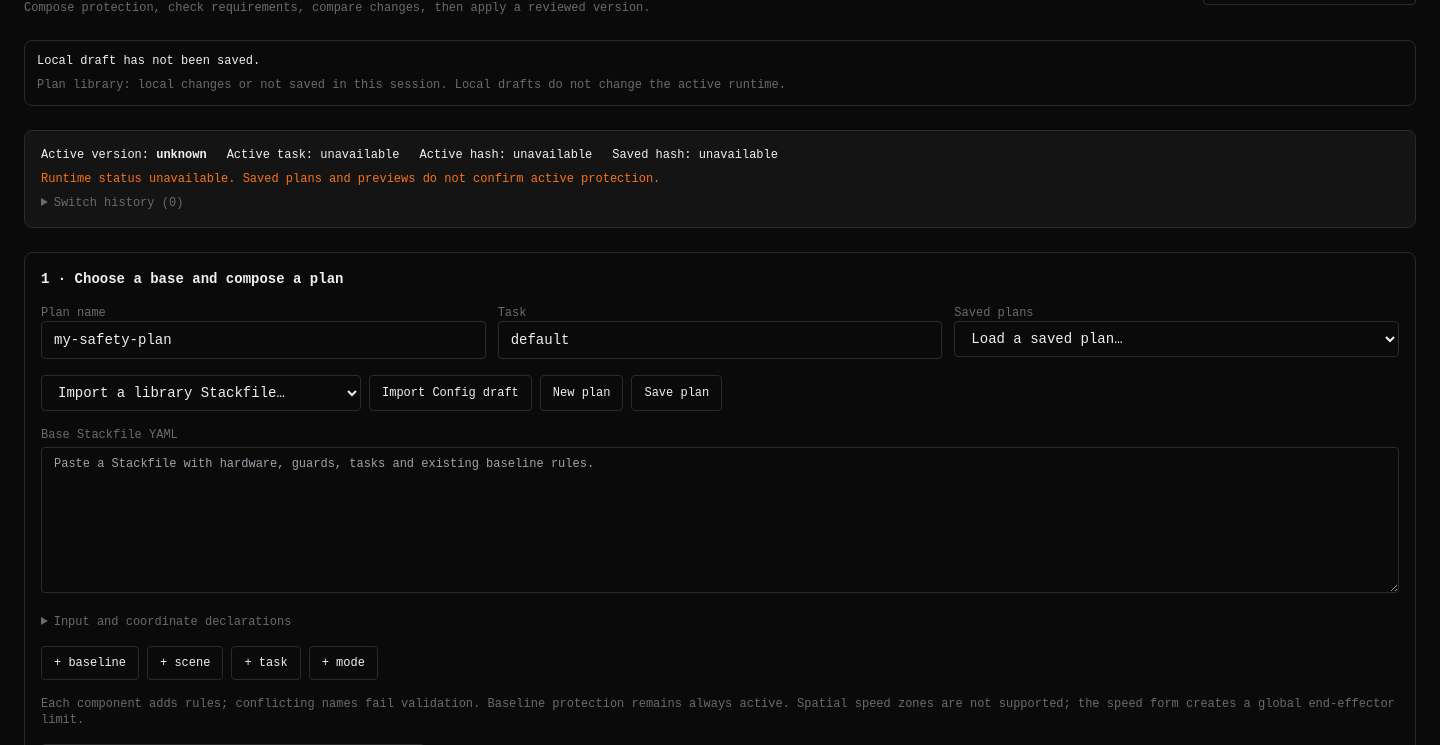
natural language draft is not silently added and preserves unresolved requirements after review
This screenshot has width=1440, height=745.
Replace the text in the text box labelled "Base Stackfile YAML" with "version: \"1\"" at (720, 520), box [41,447,1399,593]
(page scrolled)
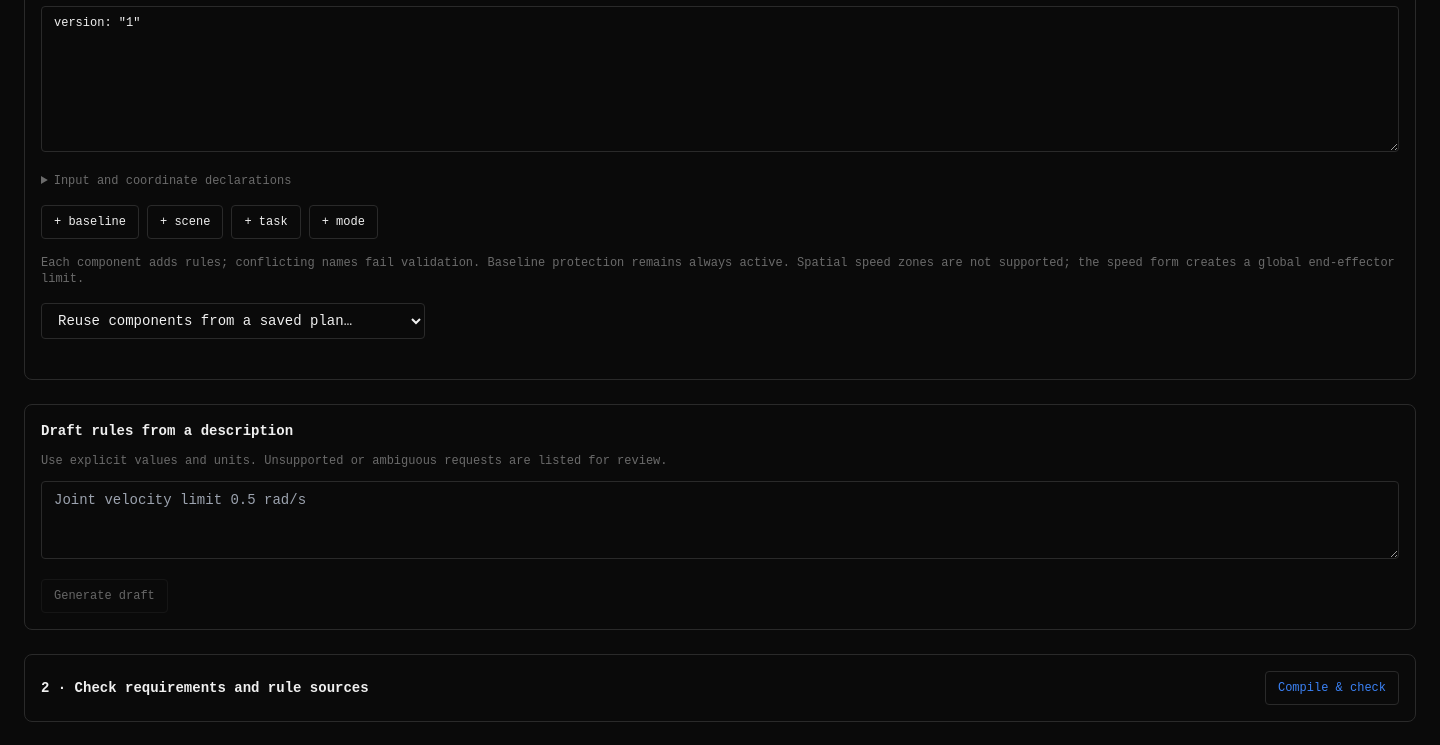
Type "Slow down near the table" into the text box named "Rule description" at (720, 520), box [41,481,1399,559]
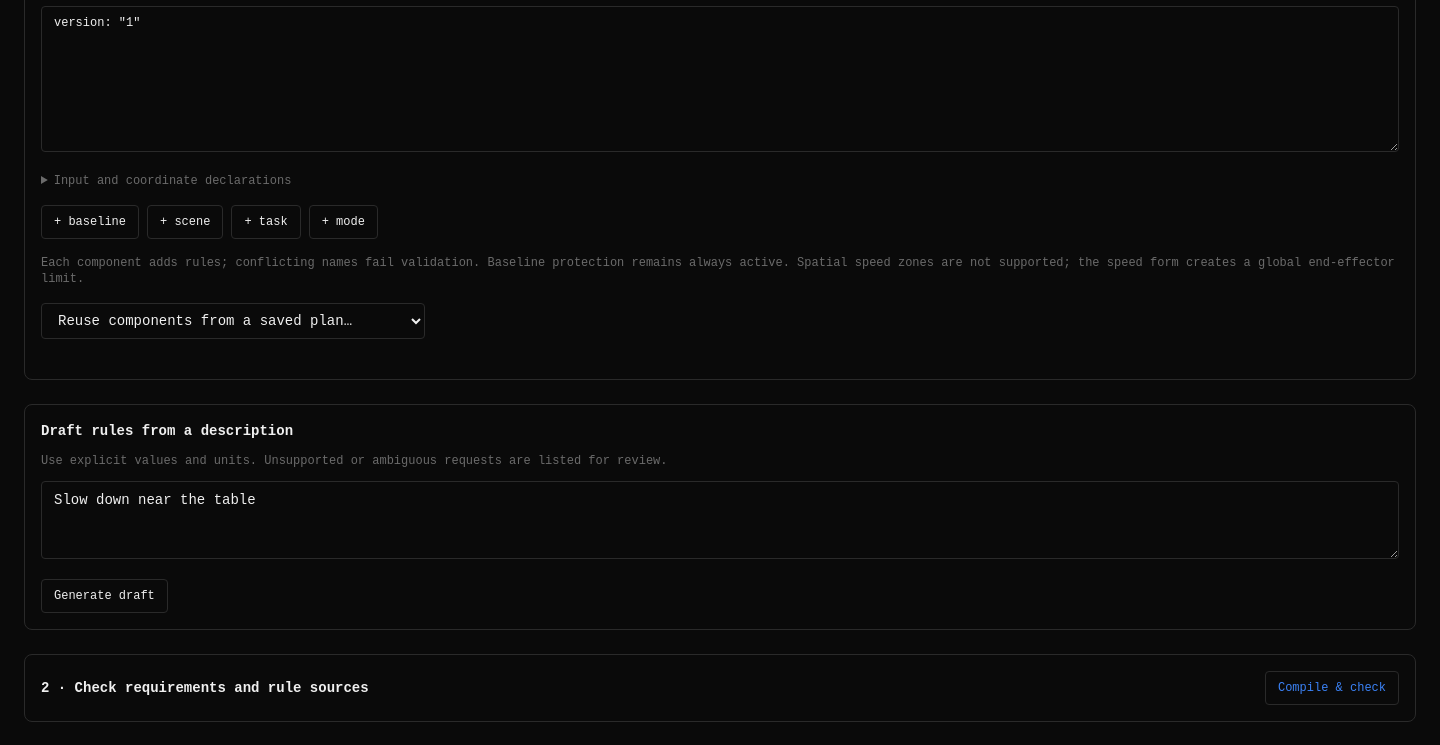
Click the button "Generate draft" at (104, 596), box [41,579,168,613]
(page scrolled)
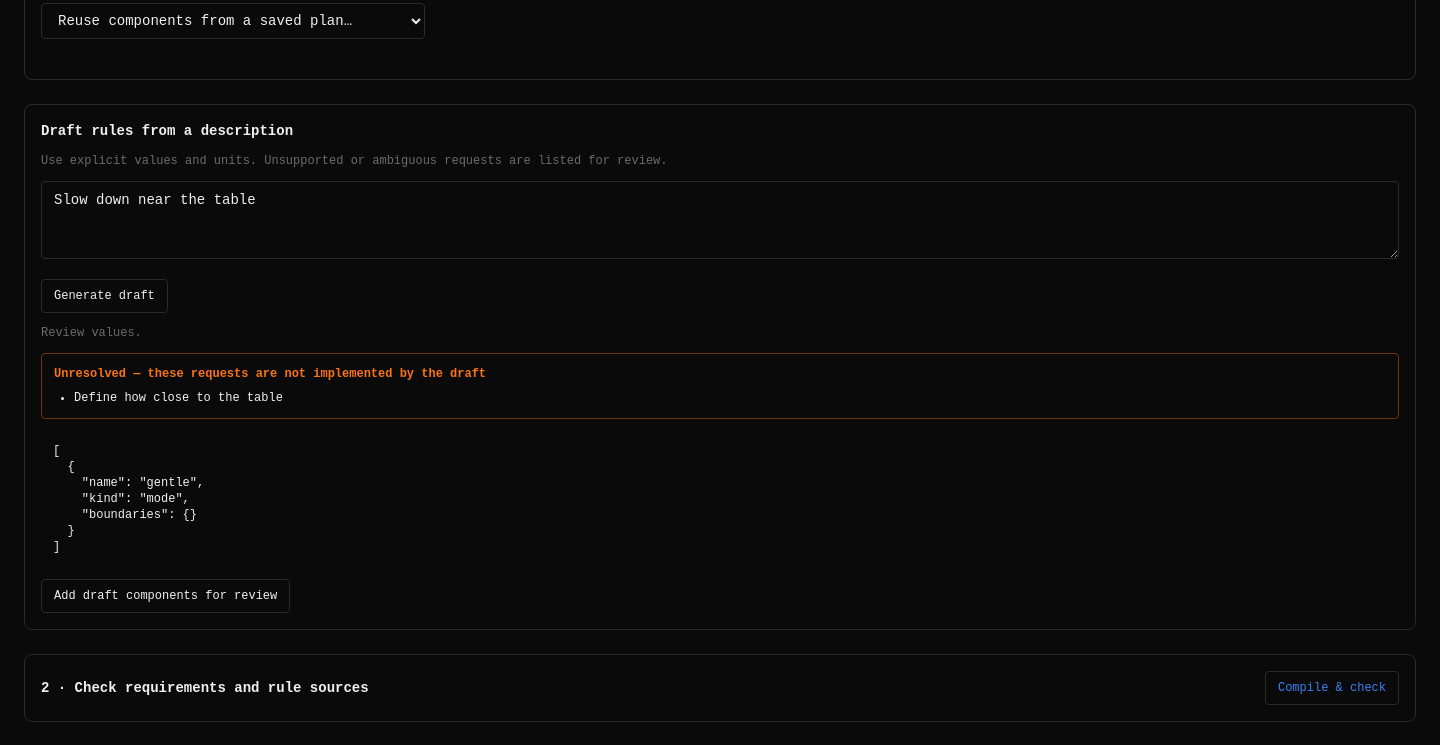
Expected: the field labelled "Component name" is not shown
Result: the list item "Define how close to the table" is shown at [74,391,283,405]
Click the button "Add draft components for review" at (166, 596), box [41,579,290,613]
(page scrolled)
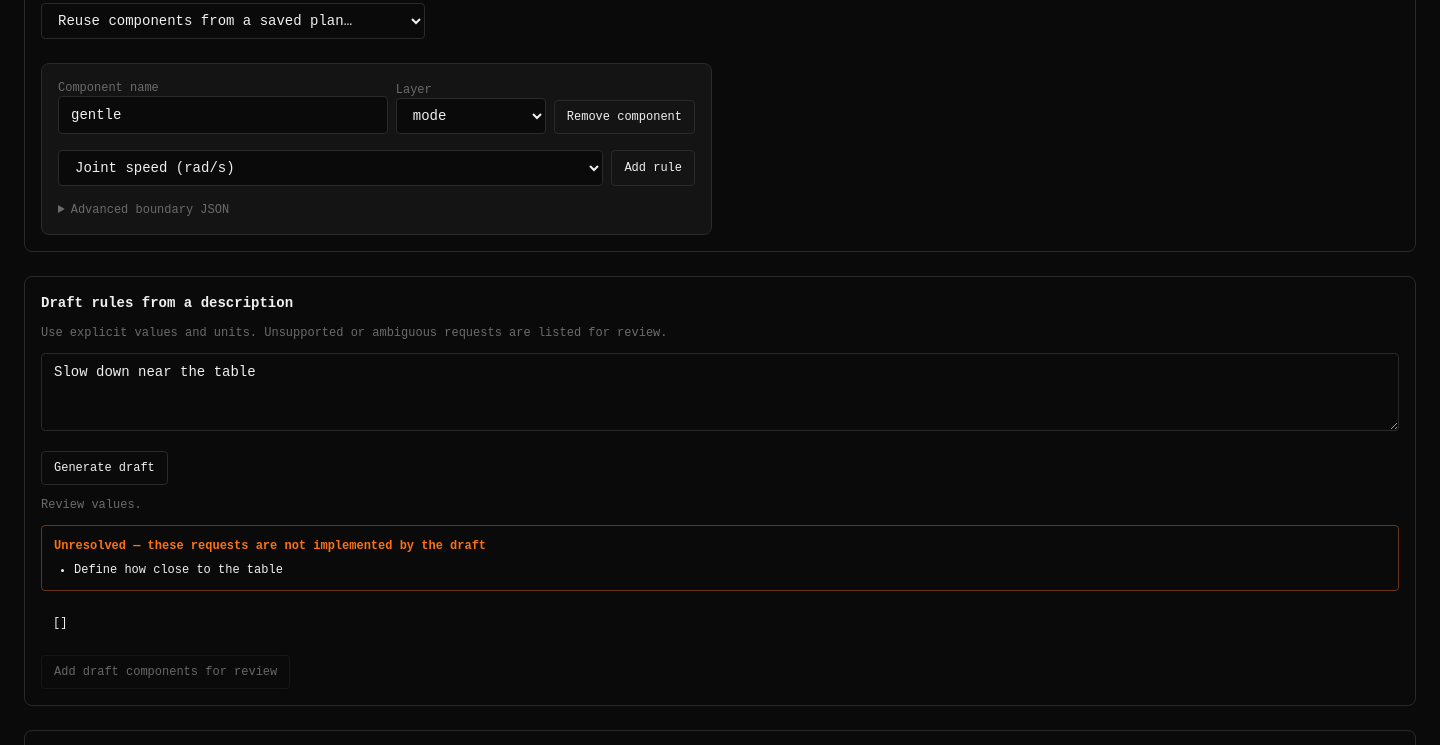
Result: the list item "Define how close to the table" is shown at [74,563,283,577]
Result: the field labelled "Component name" holds "gentle" at [58,96,388,134]
